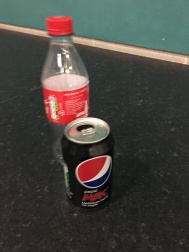bottle_red: (36, 13, 98, 181)
can_black: (62, 111, 119, 226)
